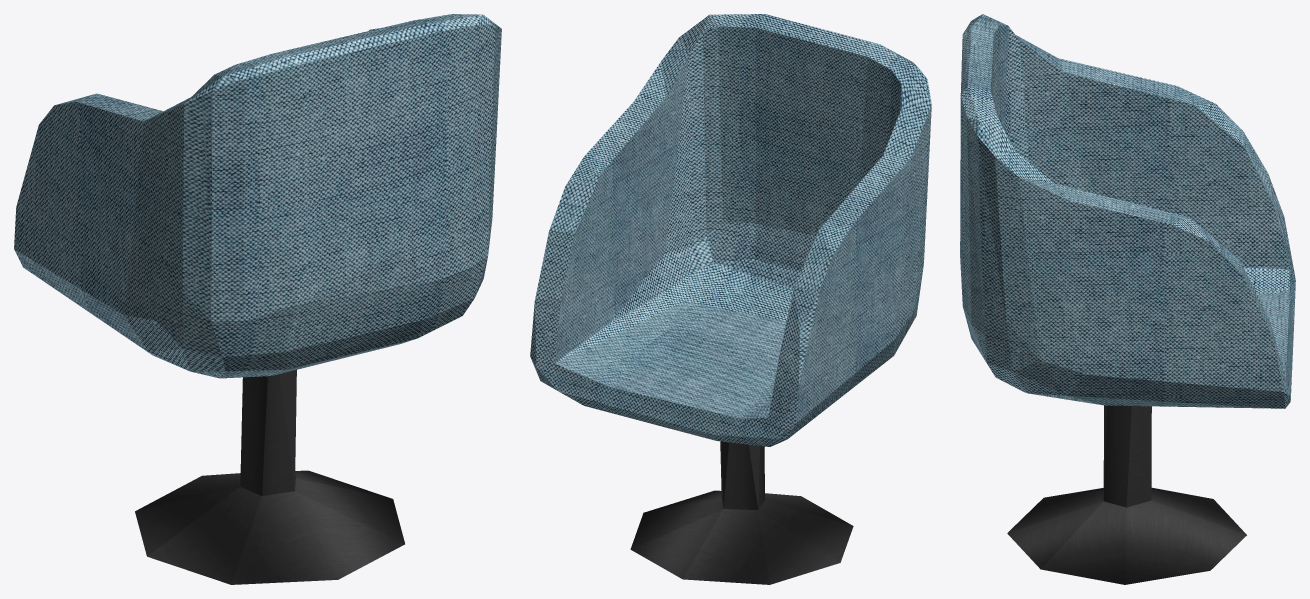
Rendered from OFFICE_CHAIR_03.fbx.
The picture shows the model from 3 angles, left to right: view 1: azimuth 30°, elevation 25°; view 2: azimuth 150°, elevation 25°; view 3: azimuth 270°, elevation 25°; orthographic projection. The views are drawn at different scales.
Parts seen in each view (by area): view 1: OFFICE_CHAIR_03; view 2: OFFICE_CHAIR_03; view 3: OFFICE_CHAIR_03.
Boxes of the visible parts, x1,y1,x2,y2 form: OFFICE_CHAIR_03: (14,14,501,584); OFFICE_CHAIR_03: (530,14,931,584); OFFICE_CHAIR_03: (960,14,1295,584).
Size of the model in its own units: 75.39 by 120 by 76.78.
